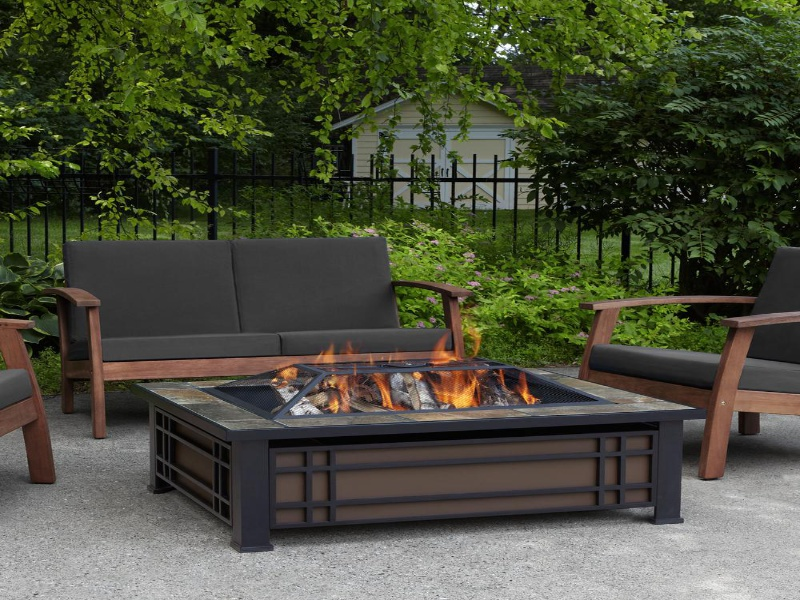fire: (276, 341, 535, 408)
